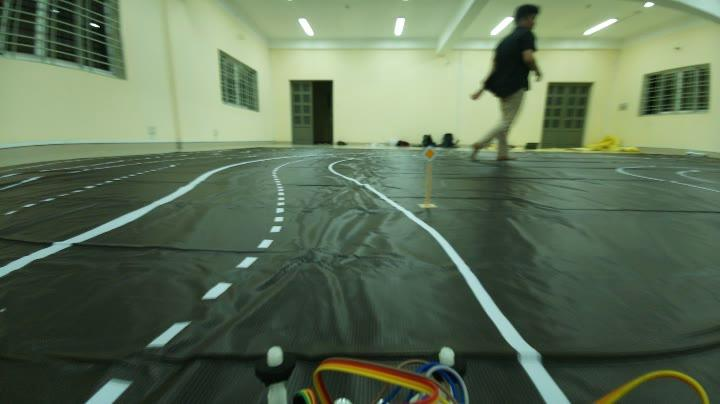priority: (417, 143, 445, 167)
